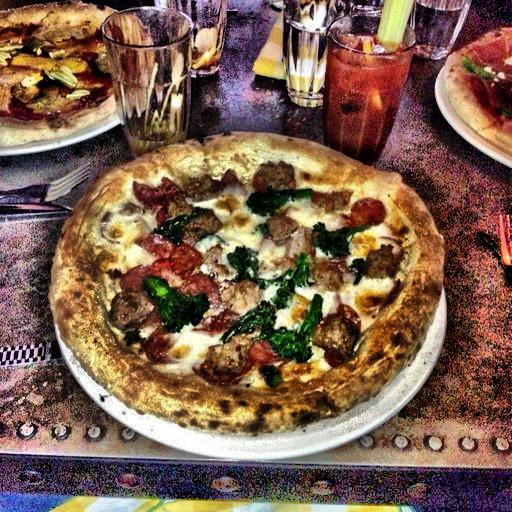pizza: (49, 124, 462, 453)
